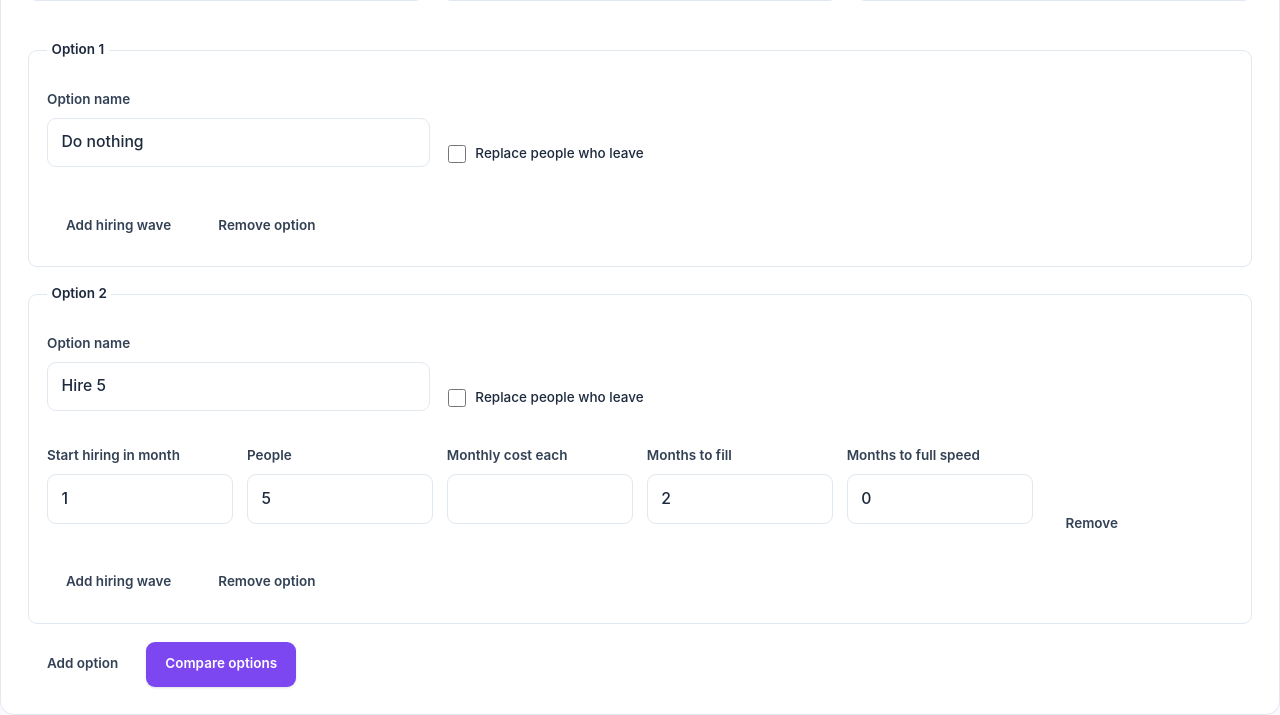
it: compares options with the attrition range, change versus the first, and the not-a-forecast notice
The width and height of the screenshot is (1280, 715).
(page scrolled)
Click the button "Compare options" at (221, 664), box [146, 642, 296, 687]
(page scrolled)
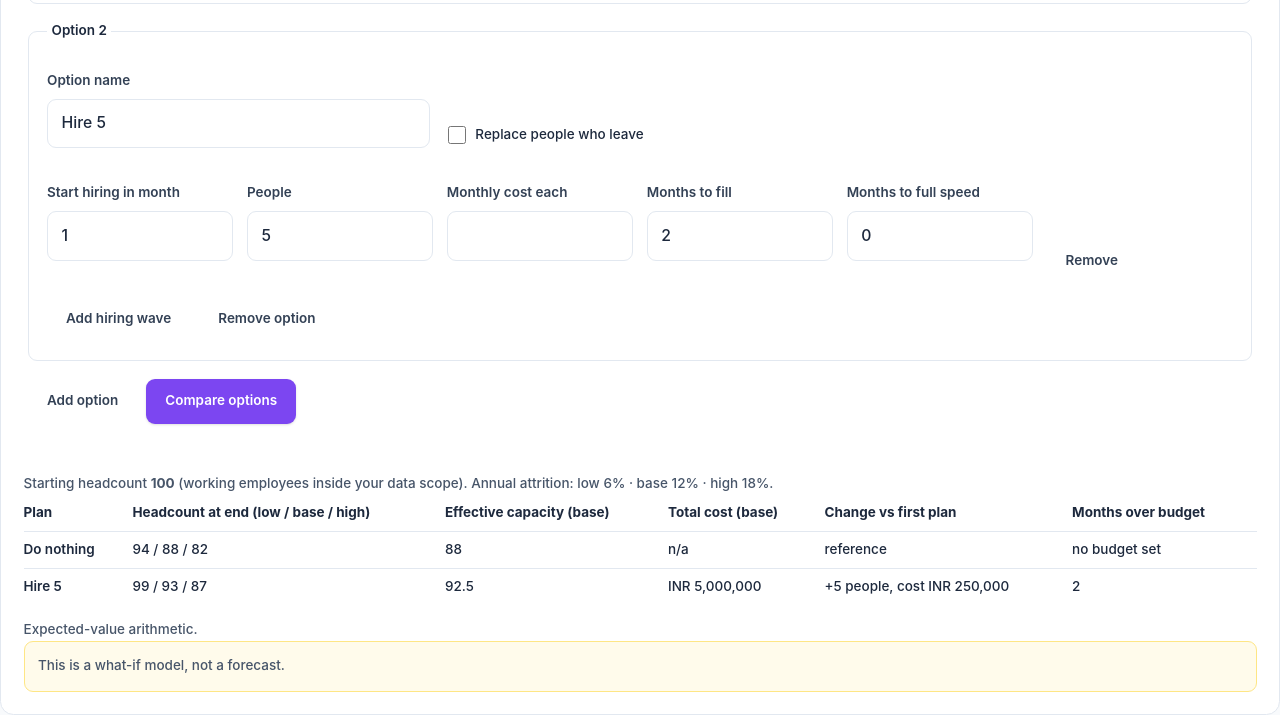
Expected: the text "94 / 88 / 82" is shown, [132, 532, 445, 569]
Expected: the text "99 / 93 / 87" is shown, [132, 569, 445, 605]
Expected: the text "no budget set" is shown, [1072, 532, 1256, 569]
